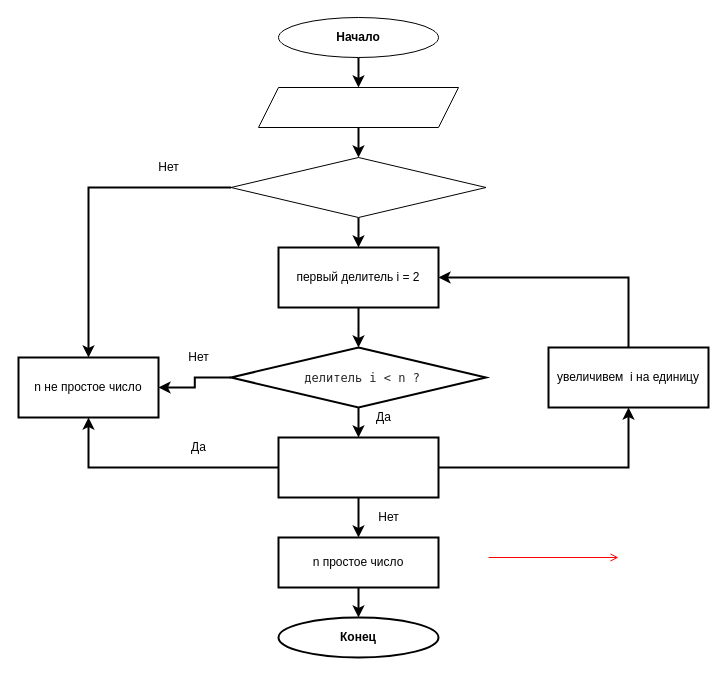
The diagram is 726 pixels wide and 676 high, and some of its shapes have lost their labels. The centre of each missing label's shape, as x and y in pixels:
"Больше ли число n единицы?" belongs at [358,187].
"Ввод числа n" belongs at [358,107].
"остаток от деления n на i равен 0?" belongs at [358,467].
